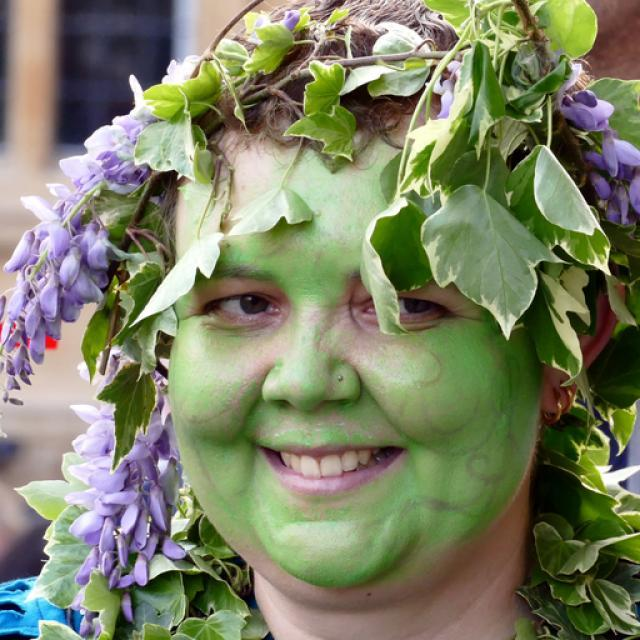happy: (161, 87, 539, 588)
